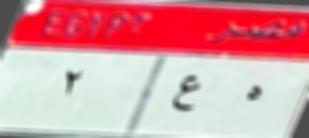2: (62, 66, 89, 99)
ain: (172, 68, 200, 118)
haa: (241, 83, 265, 107)
